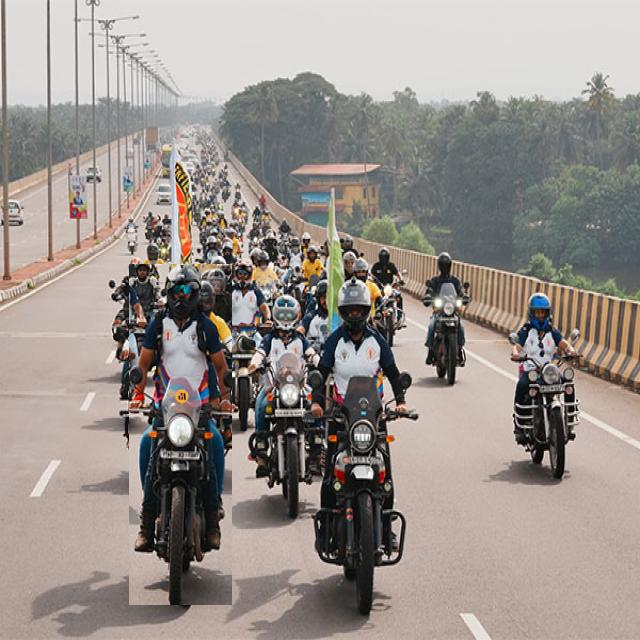motorcycle: (311, 278, 418, 614), (129, 265, 232, 605), (250, 295, 319, 518), (511, 293, 579, 478), (424, 252, 470, 384)
